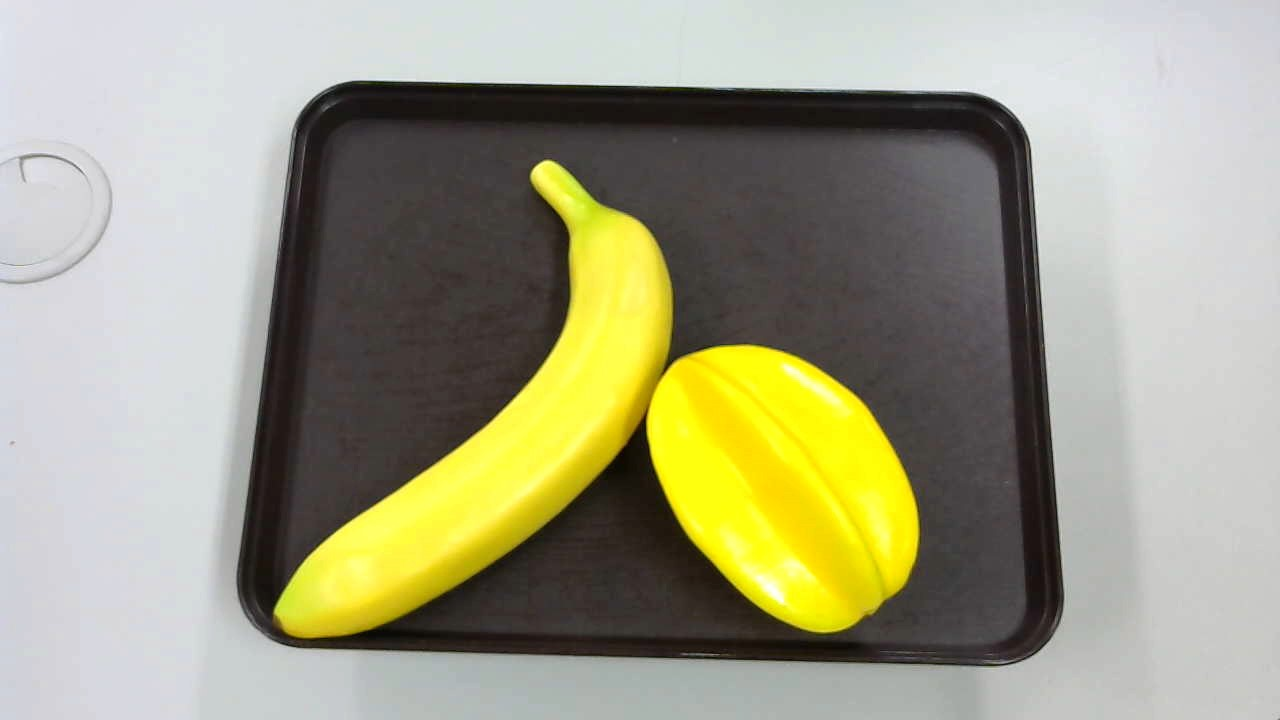banana: (263, 153, 668, 644)
star fruit: (640, 342, 916, 632)
